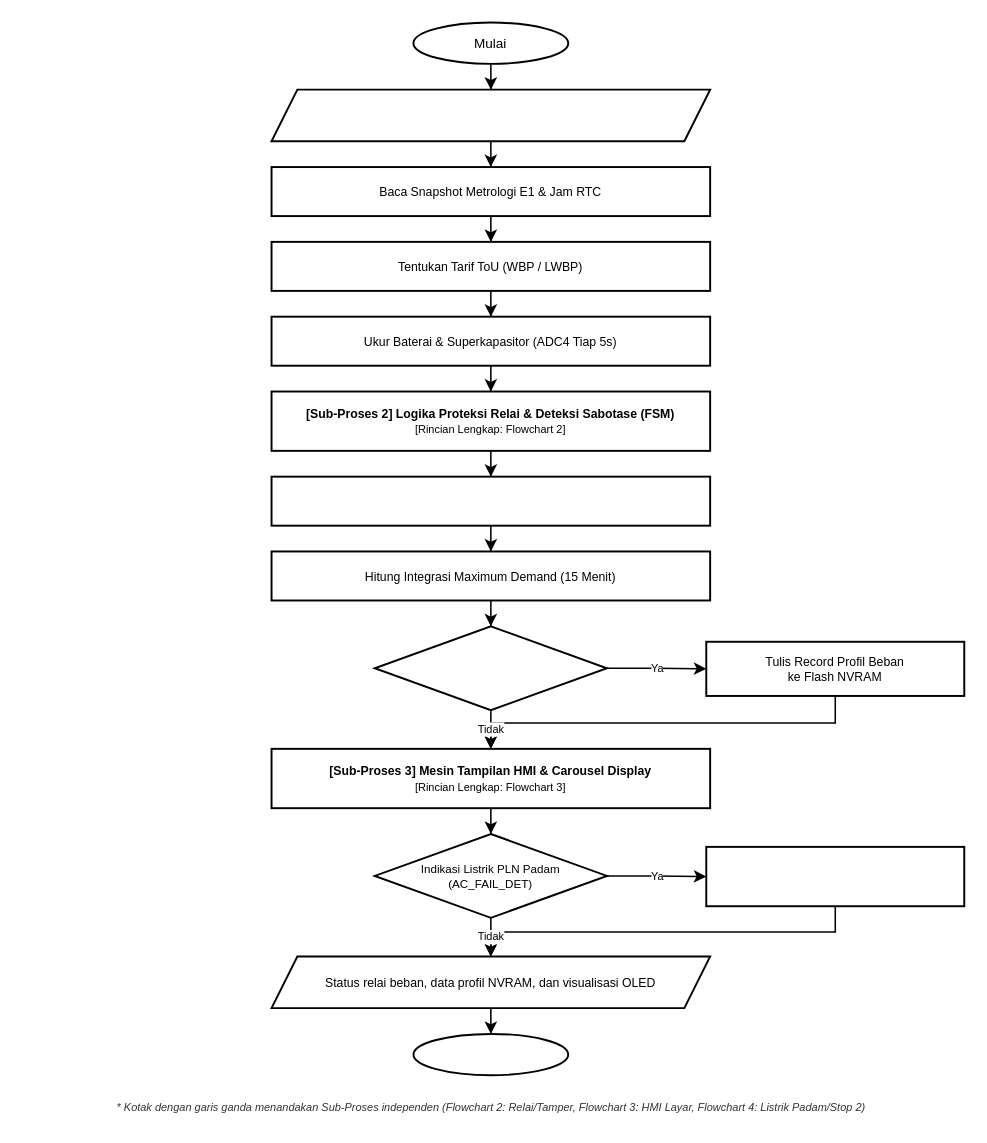
Some shapes in this 987 by 1143 pixel diagram are drawn without their labels. Here are the shapes that lost their labels. From the top down, the centre of each, then its label:
At (490,115): "Sinyal pengukuran metrologi E1, status RTC, dan telemetri baterai".
At (490,500): "Perbarui Irama Kedip LED Alarm (PB7)".
At (490,668): "Interval 15 Menit Tercapai".
At (835,876): "[Sub-Proses 4] Manajemen Listrik Padam & Stop 2 [Rincian Lengkap: Flowchart 4]".
At (490,1054): "Selesai".
